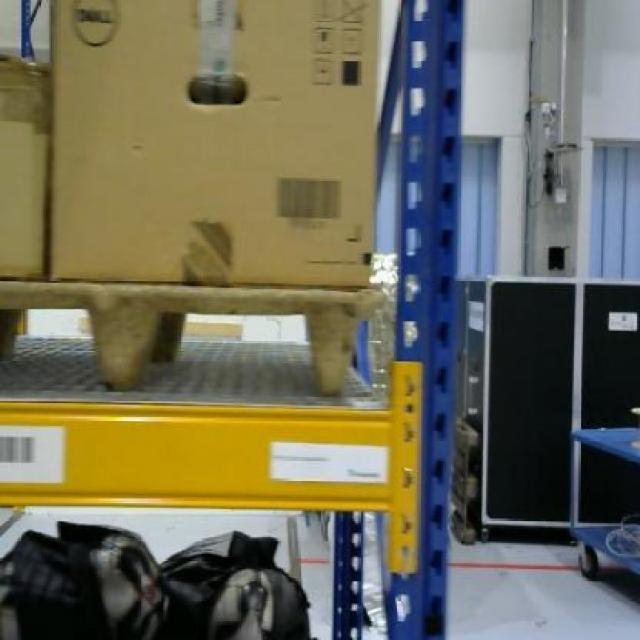box: (50, 0, 375, 282)
